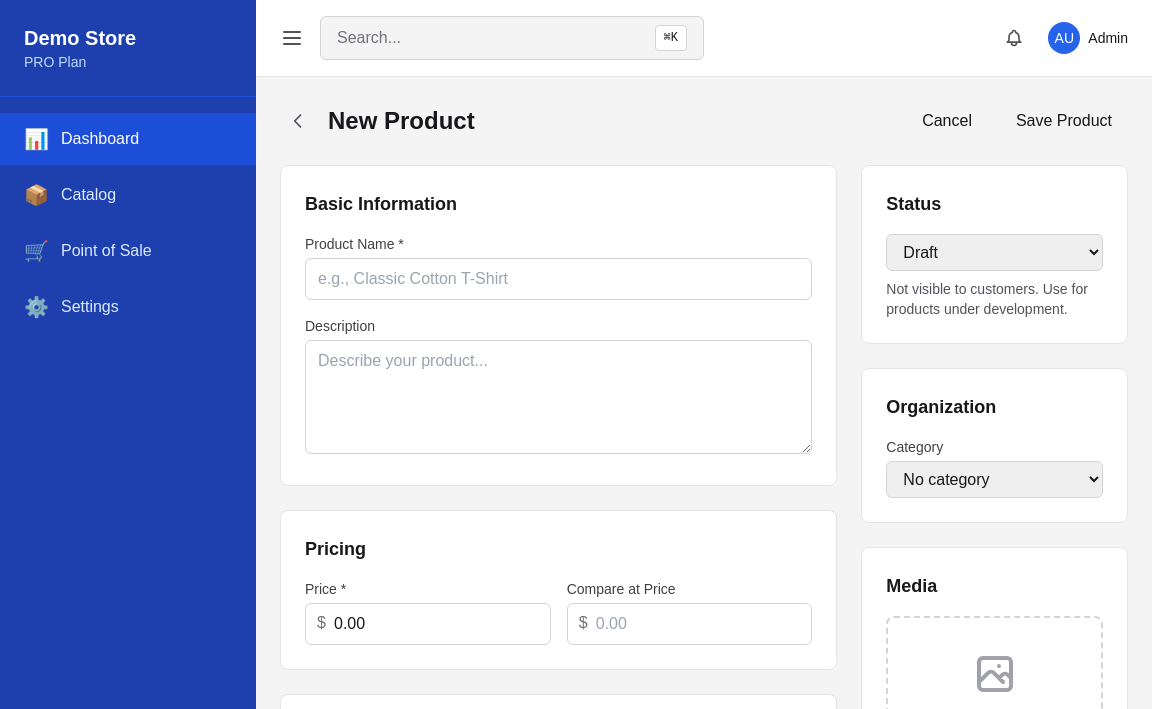
Test: Catalog Management › Product Creation › should require product name
Try to save without name
Click the button "Save Product": (1064, 121) left=1000, top=101, right=1128, bottom=141
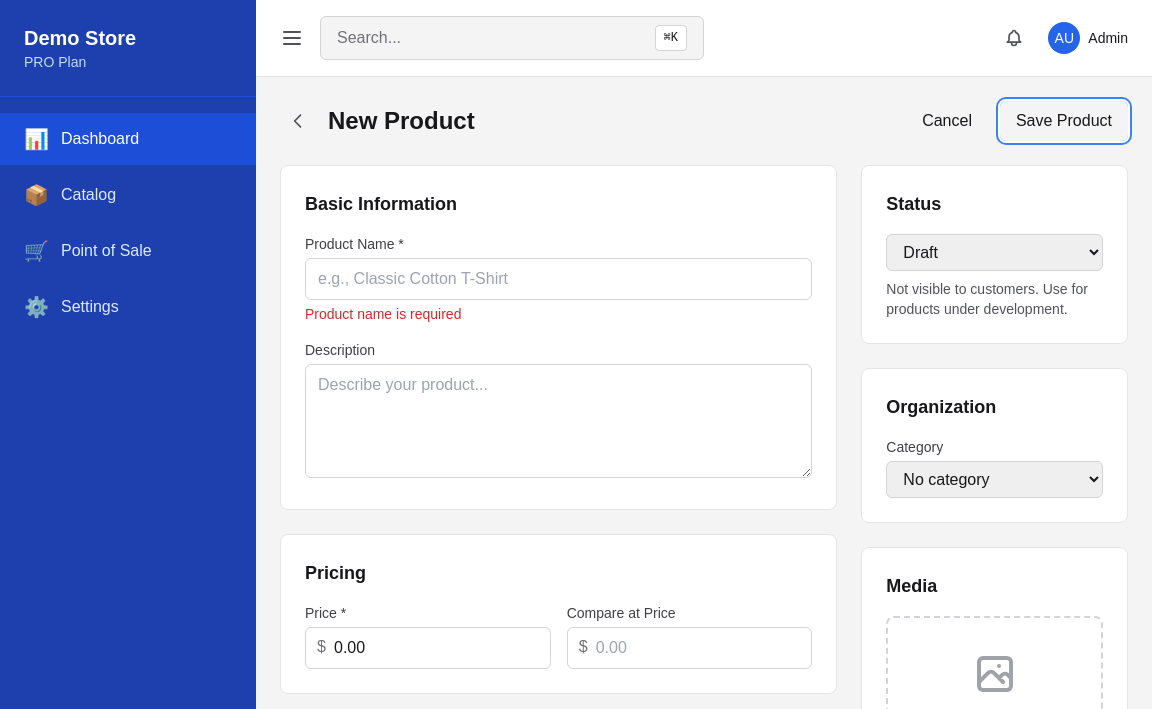
Now the text "Product name is required" is shown, box left=305, top=306, right=461, bottom=322
